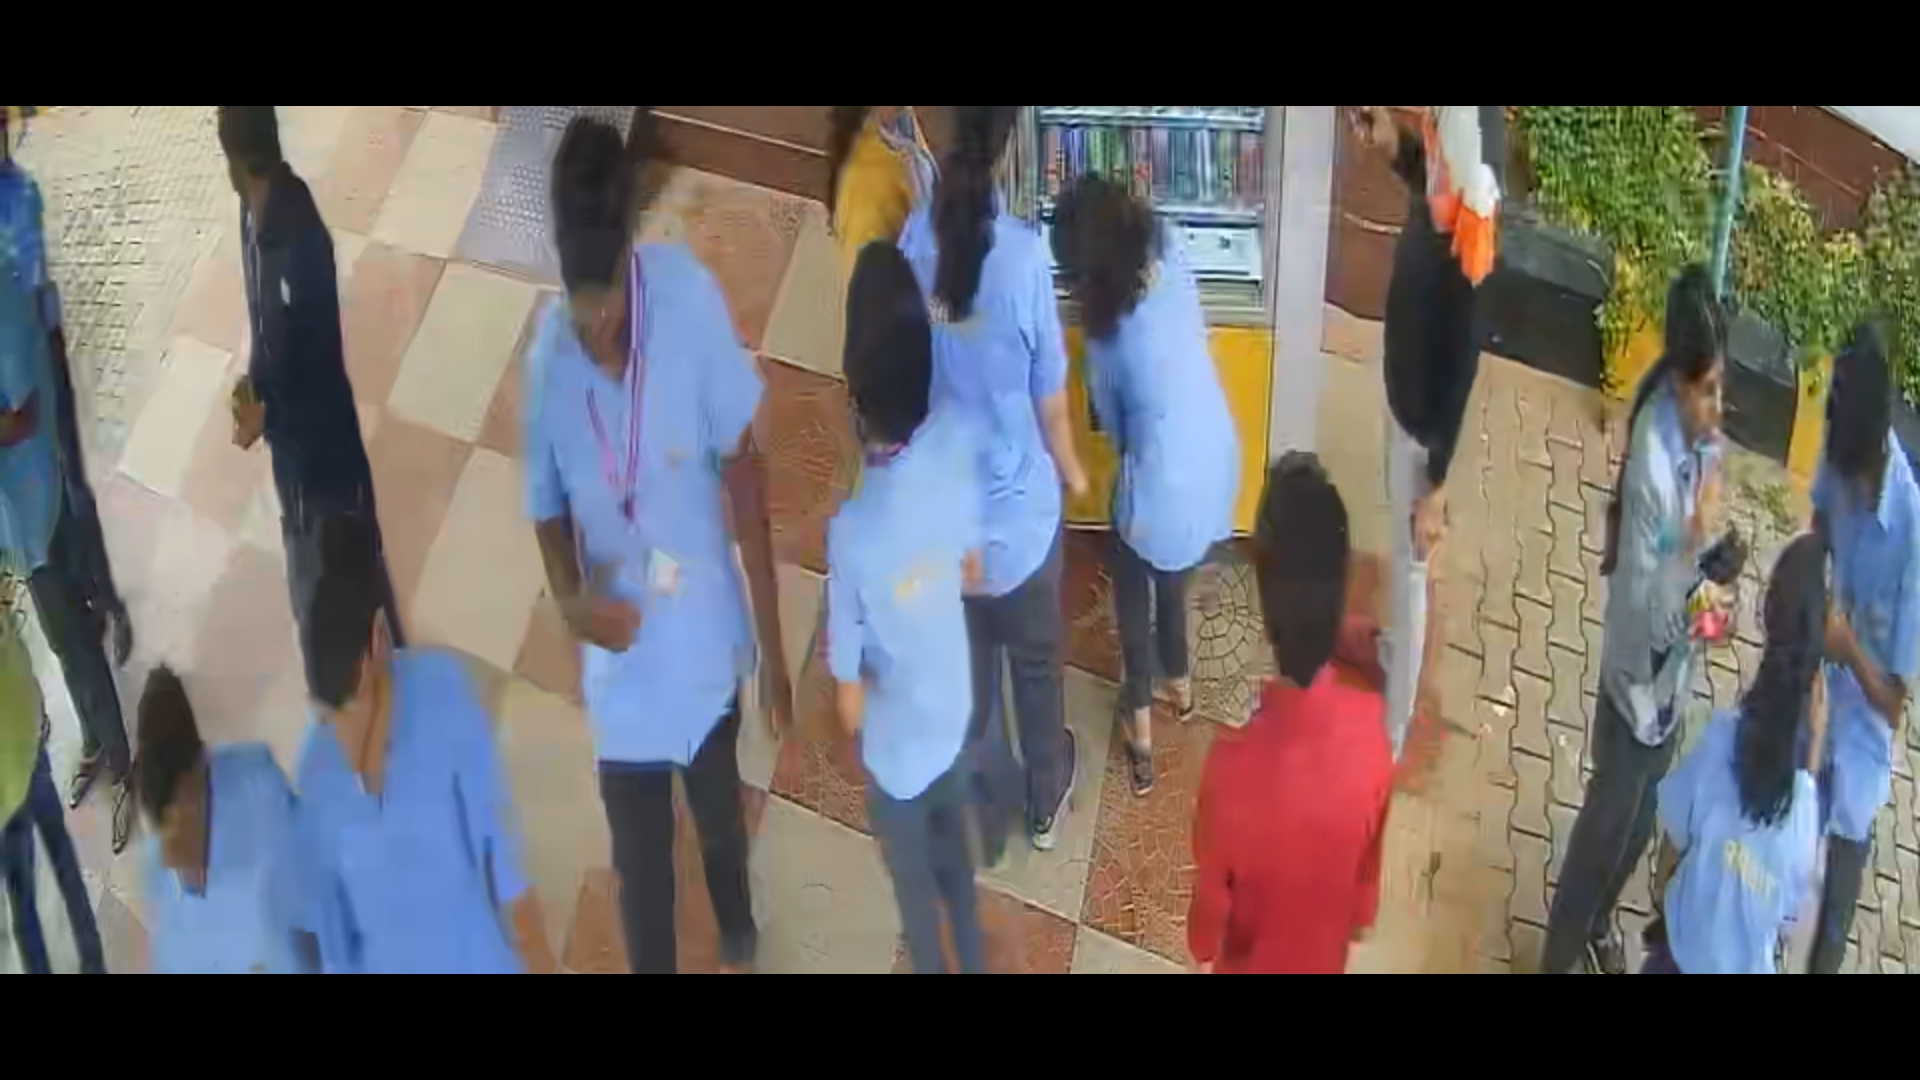not intruder: (518, 121, 796, 992)
